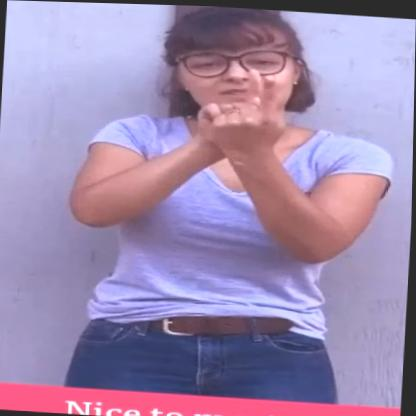NiceToMeetYou: (34, 1, 416, 394)
